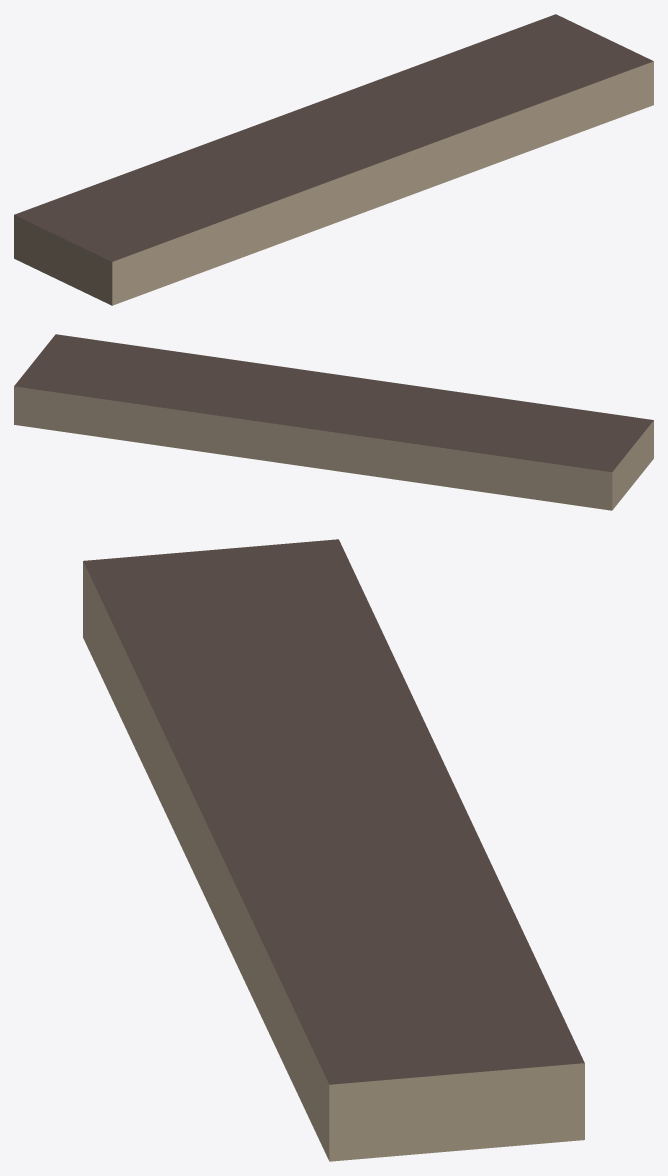
The picture shows the model from 3 angles, top to bottom: view 1: azimuth 30°, elevation 25°; view 2: azimuth 150°, elevation 25°; view 3: azimuth 270°, elevation 25°; orthographic projection. The views are drawn at different scales.
Visible parts, largest first — view 1: HP-w408450738; view 2: HP-w408450738; view 3: HP-w408450738.
Part boxes in pixels (x1,y1,x2,y2): HP-w408450738: (14, 14, 653, 305); HP-w408450738: (14, 334, 653, 510); HP-w408450738: (83, 539, 584, 1161).
Size of the model in its own units: 45.61 by 3 by 17.73.
